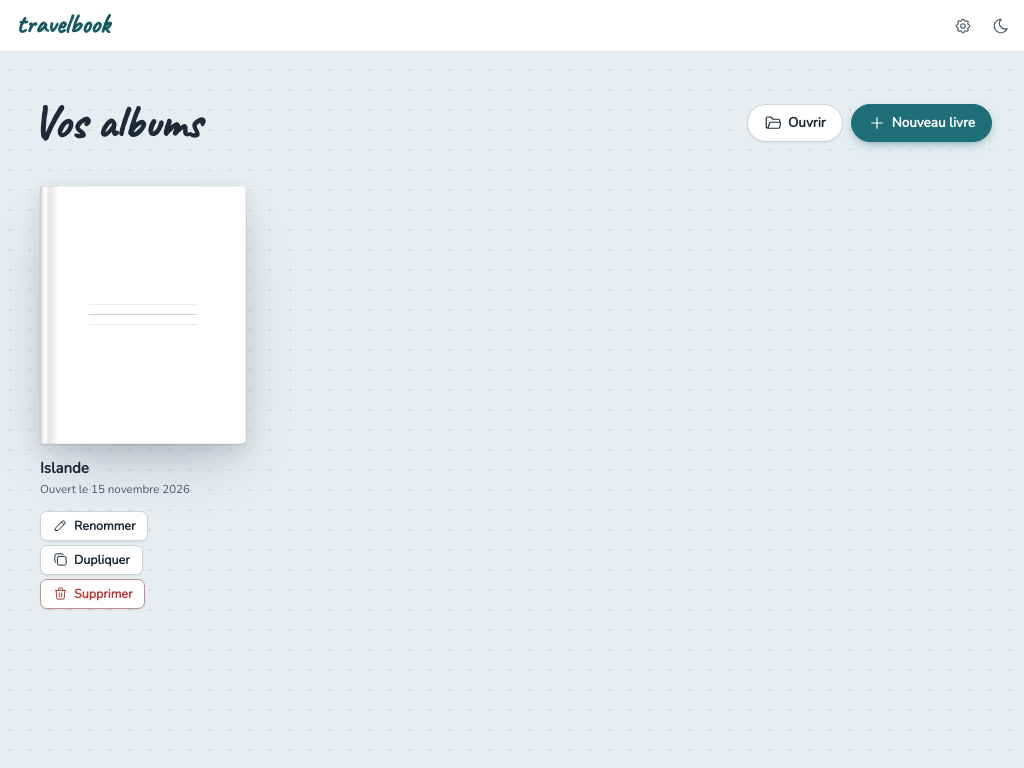
it: Home: duplicate an album › shows an error when the copy fails
The image size is (1024, 768).
expect the text "Islande" is shown: met, box [40,458,89,478]
Click the button "Dupliquer" at [91, 560], box [40,545,143,575]
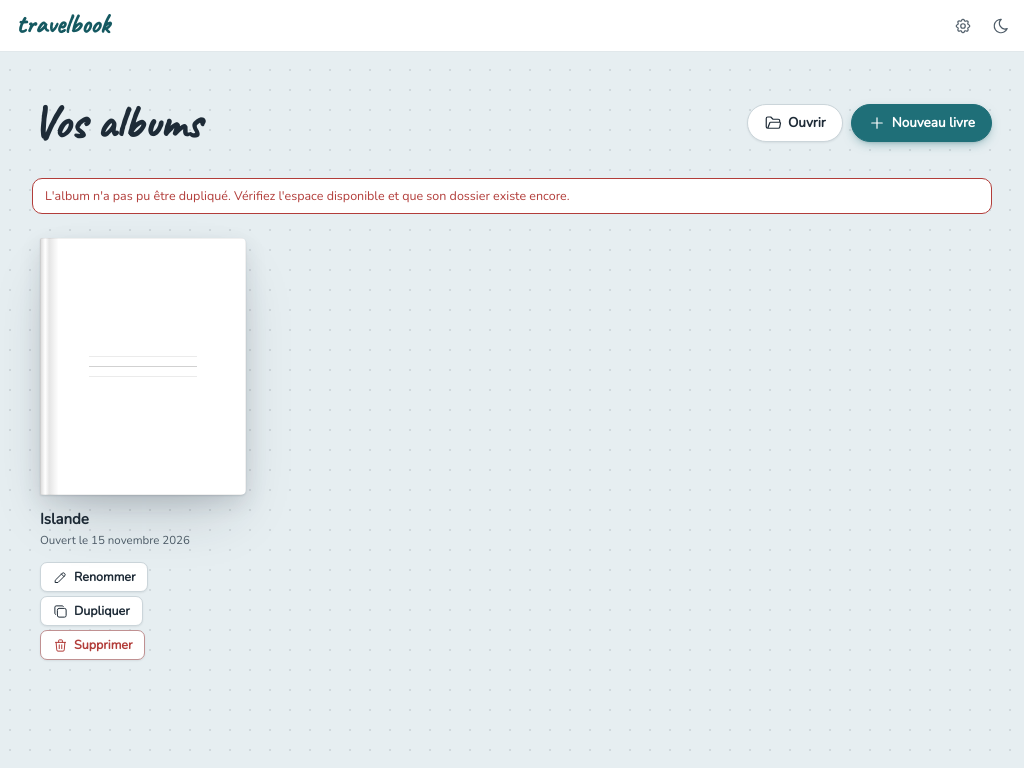
expect the message shows "L'album n'a pas pu être dupliqué. Vérifiez l'espace disponible et que son dossier existe encore.": met, box [45,187,570,204]
